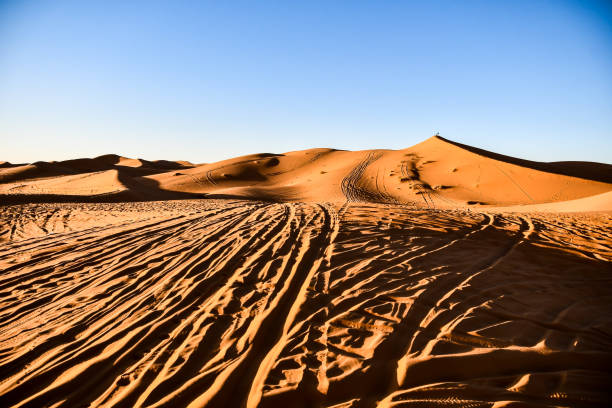vehicle_track: (0, 200, 611, 406), (328, 215, 533, 405), (286, 215, 492, 403), (0, 223, 198, 404), (200, 205, 335, 406), (397, 216, 532, 382), (248, 203, 339, 405), (334, 214, 493, 291), (336, 307, 430, 402), (207, 205, 294, 307), (205, 154, 281, 184), (341, 152, 381, 201), (265, 150, 331, 175), (400, 161, 435, 208), (375, 168, 399, 203), (183, 171, 216, 186), (205, 170, 216, 185)
